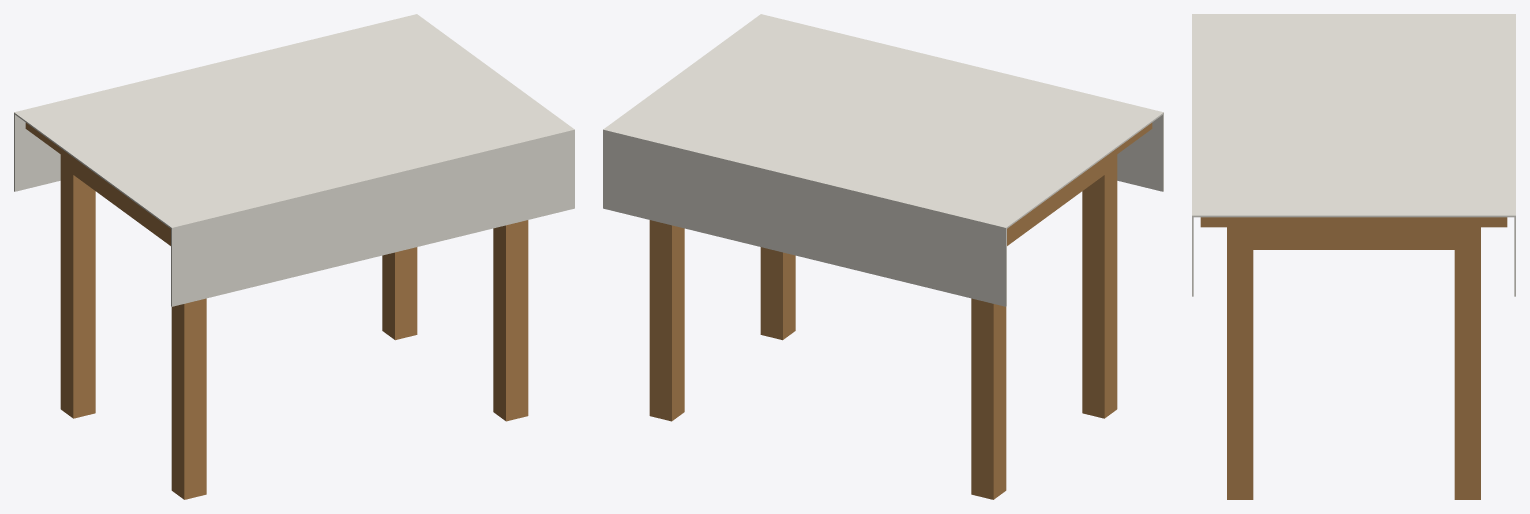
3 views of the same model, side by side, from view 1: azimuth 30°, elevation 25°; view 2: azimuth 150°, elevation 25°; view 3: azimuth 270°, elevation 25° (orthographic). The views are drawn at different scales.
Parts seen in each view (by area): view 1: parametric-variant-table-2nd-pub-ba23e8270794ac813ef0; view 2: parametric-variant-table-2nd-pub-ba23e8270794ac813ef0; view 3: parametric-variant-table-2nd-pub-ba23e8270794ac813ef0.
Part boxes in pixels (x1,y1,x2,y2): parametric-variant-table-2nd-pub-ba23e8270794ac813ef0: (14, 14, 574, 499); parametric-variant-table-2nd-pub-ba23e8270794ac813ef0: (603, 14, 1163, 499); parametric-variant-table-2nd-pub-ba23e8270794ac813ef0: (1192, 14, 1515, 499).
Bounding box in the file's own units: 1.09 × 0.754 × 0.74.
